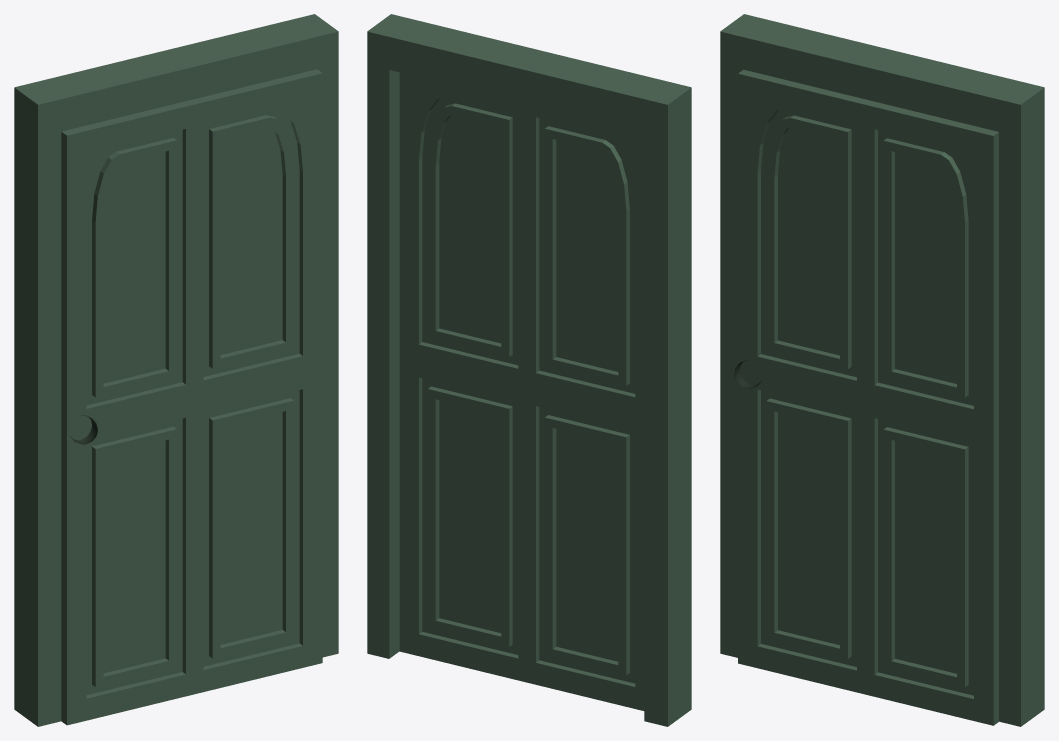
The model's file is kapı.fbx.
3 renders of one model, left to right at view 1: azimuth 30°, elevation 25°; view 2: azimuth 150°, elevation 25°; view 3: azimuth 330°, elevation 25°, orthographic.
Parts seen in each view (by area): view 1: Cube.013; view 2: Cube.013; view 3: Cube.013.
Boxes of the visible parts, x1,y1,x2,y2 form: Cube.013: (14,14,338,726); Cube.013: (367,14,691,726); Cube.013: (720,14,1044,726).
Bounding box in the file's own units: 443 × 101 × 875.
